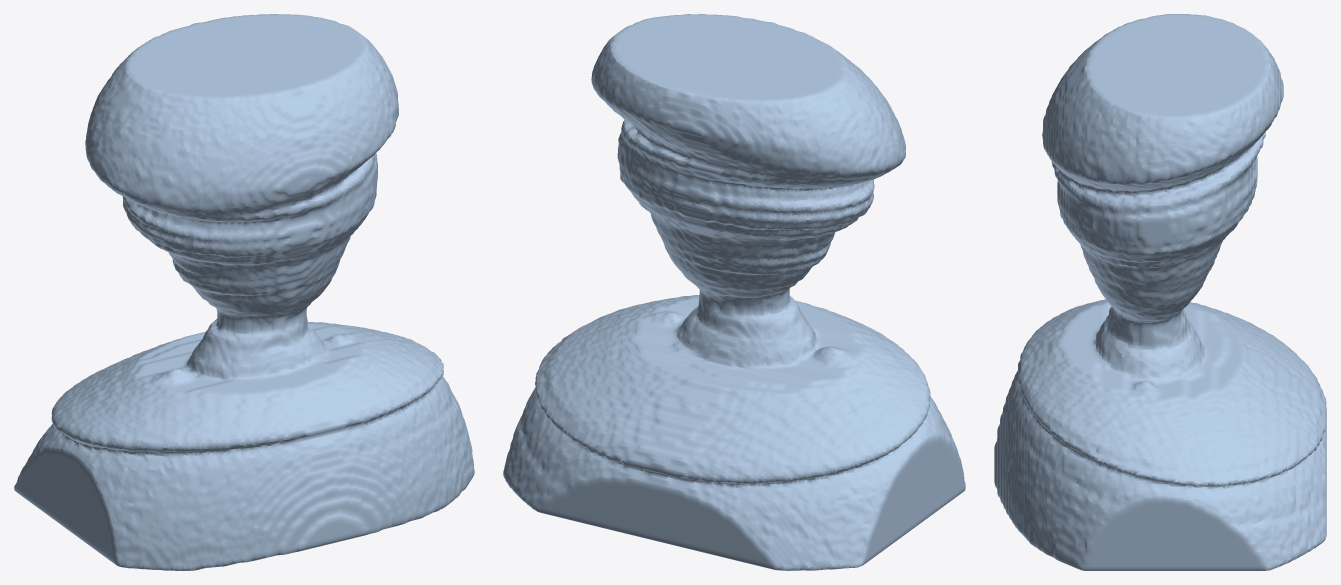
File: hypothesis_ellipse-hull.glb
The picture shows the model from 3 angles, left to right: view 1: azimuth 30°, elevation 25°; view 2: azimuth 150°, elevation 25°; view 3: azimuth 270°, elevation 25°; orthographic projection. The views are drawn at different scales.
Visible parts, largest first — view 1: hypothesis-ellipse-hull; view 2: hypothesis-ellipse-hull; view 3: hypothesis-ellipse-hull.
Part boxes in pixels (<box>): hypothesis-ellipse-hull: <box>14,14,474,570</box>; hypothesis-ellipse-hull: <box>503,14,965,570</box>; hypothesis-ellipse-hull: <box>994,14,1326,570</box>.
Size of the model in its own units: 0.9003 by 1.01 by 0.7251.
